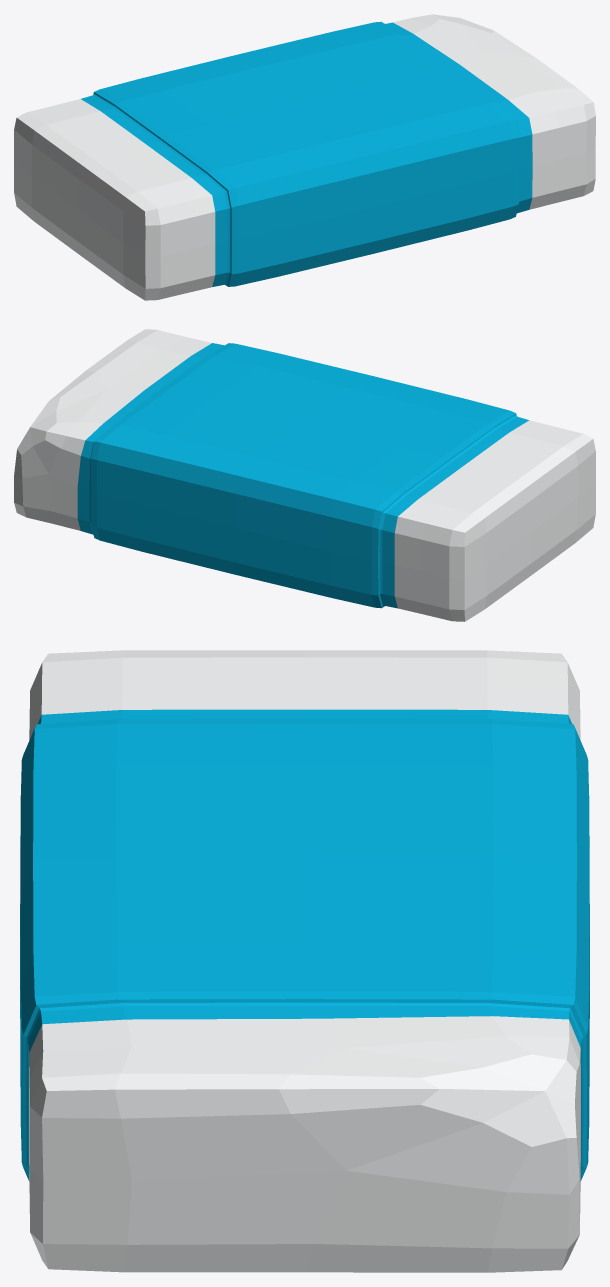
File: Eraser.fbx
3 renders of one model, top to bottom at view 1: azimuth 30°, elevation 25°; view 2: azimuth 150°, elevation 25°; view 3: azimuth 270°, elevation 25°, orthographic. The views are drawn at different scales.
Parts seen in each view (by area): view 1: Cube; view 2: Cube; view 3: Cube.
Boxes of the visible parts, x1=… form: Cube: x1=14, y1=14, x2=595, y2=300; Cube: x1=14, y1=329, x2=595, y2=621; Cube: x1=20, y1=650, x2=589, y2=1272.
Bounding box in the file's own units: 171 × 37.8 × 92.83.
